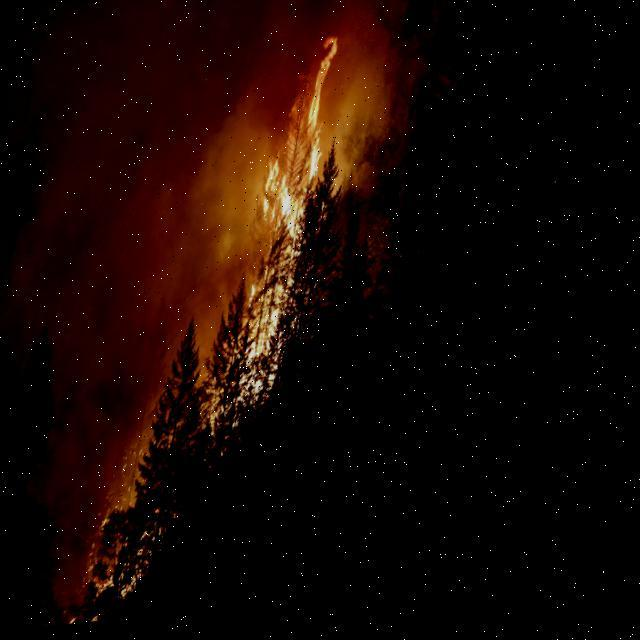Fire: (233, 38, 351, 406)
